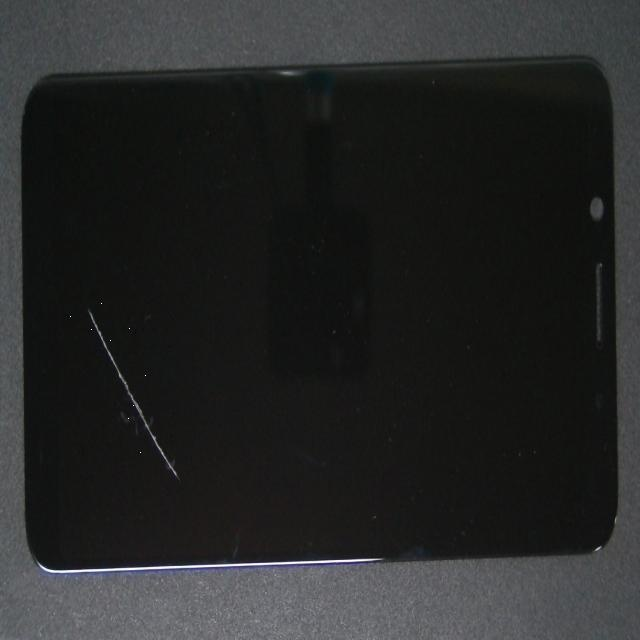scratch: (0, 122, 163, 610)
